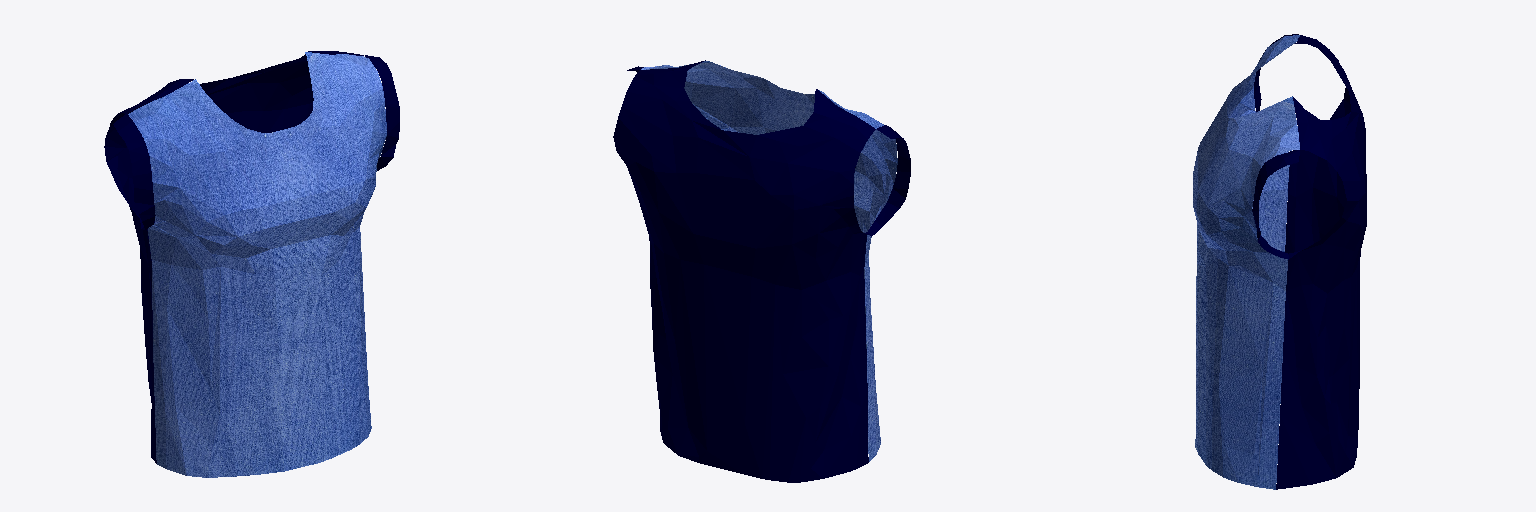
3 views of the same model, side by side, from view 1: azimuth 30°, elevation 25°; view 2: azimuth 150°, elevation 25°; view 3: azimuth 270°, elevation 25° (orthographic).
Parts seen in each view (by area): view 1: T_shirt; view 2: T_shirt; view 3: T_shirt.
Boxes of the visible parts, box(x1,y1,x2,y2) form: T_shirt: box(104, 51, 399, 477); T_shirt: box(613, 60, 910, 482); T_shirt: box(1193, 34, 1366, 489).
Bounding box in the file's own units: 0.2935 × 0.3892 × 0.1639.
Materials: 2 (1 with a texture image).